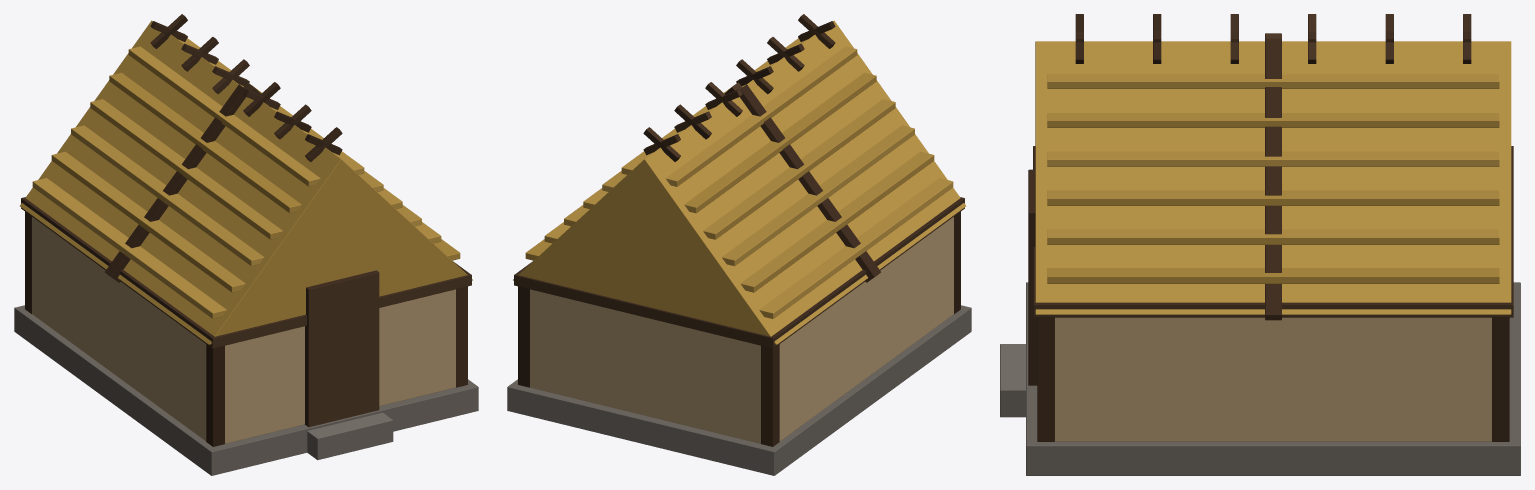
File: House_Neo_a.fbx
The picture shows the model from 3 angles, left to right: view 1: azimuth 30°, elevation 25°; view 2: azimuth 150°, elevation 25°; view 3: azimuth 270°, elevation 25°; orthographic projection. The views are drawn at different scales.
Parts seen in each view (by area): view 1: House_Neo_a; view 2: House_Neo_a; view 3: House_Neo_a.
Part boxes in pixels (left/top/right/bottom): House_Neo_a: left=14, top=14, right=478, bottom=475; House_Neo_a: left=507, top=14, right=971, bottom=475; House_Neo_a: left=1000, top=14, right=1520, bottom=475.
Size of what is drawn, in the model's own units: 3.83 by 3.92 by 4.97.
